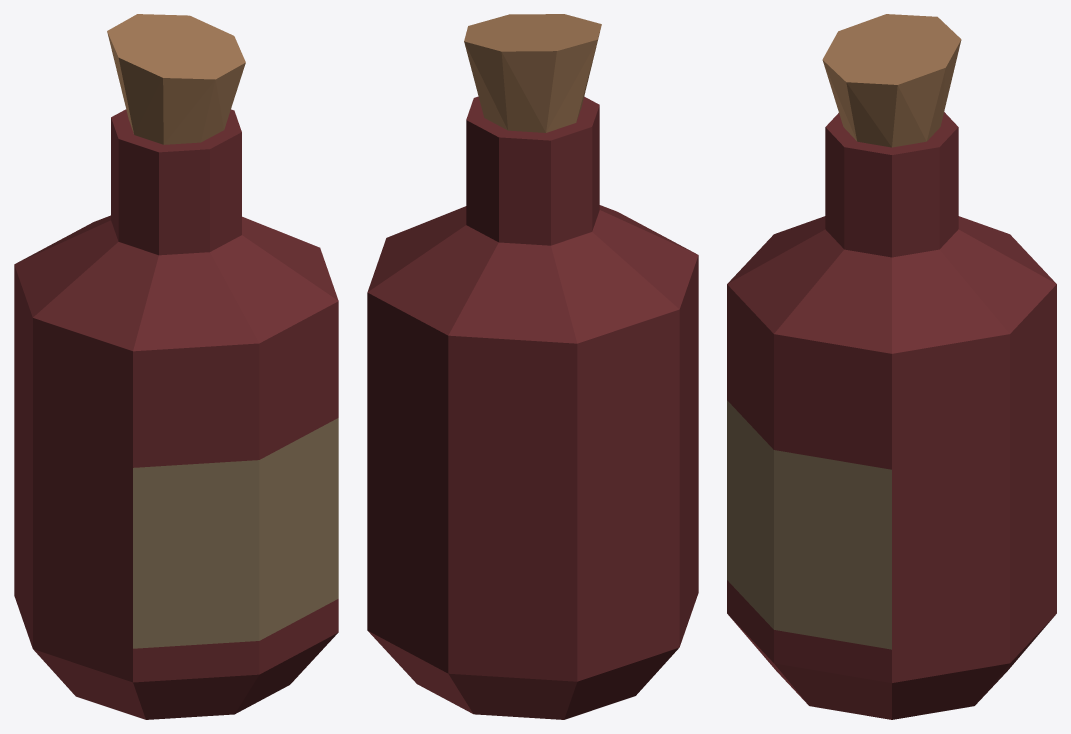
Rendered from SM_Item_Wine_01.gltf.
3 renders of one model, left to right at view 1: azimuth 30°, elevation 25°; view 2: azimuth 150°, elevation 25°; view 3: azimuth 270°, elevation 25°, orthographic. The views are drawn at different scales.
Parts seen in each view (by area): view 1: SM_Item_Wine_01; view 2: SM_Item_Wine_01; view 3: SM_Item_Wine_01.
Boxes of the visible parts, bbox=[...] form: SM_Item_Wine_01: bbox=[14, 14, 338, 719]; SM_Item_Wine_01: bbox=[367, 14, 698, 719]; SM_Item_Wine_01: bbox=[727, 14, 1056, 719].
Bounding box in the file's own units: 0.1437 × 0.3037 × 0.1437.
1 material, 1 textured.
